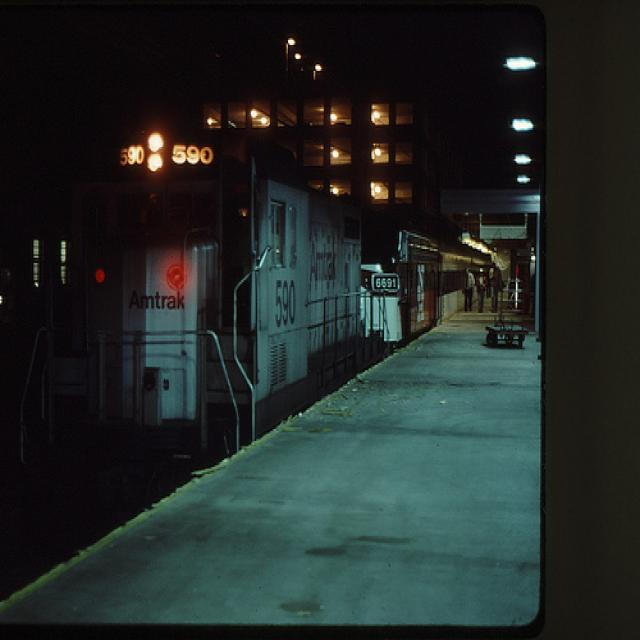locomotive: (35, 96, 367, 461)
